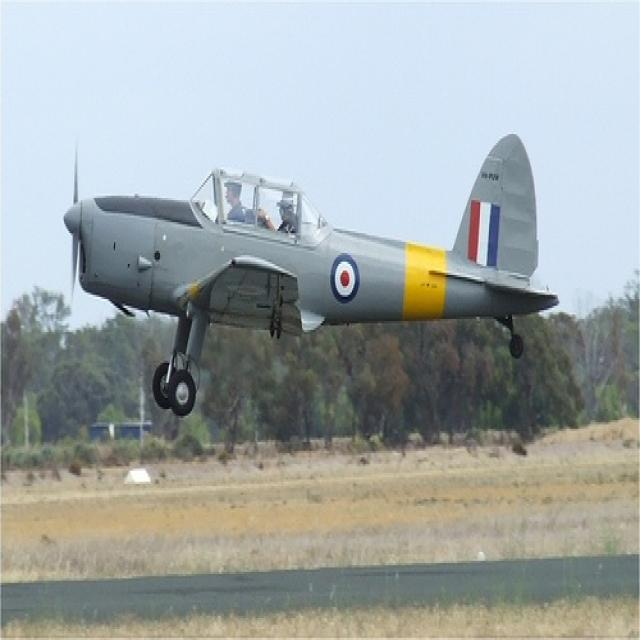aeroplane: (59, 132, 562, 420)
